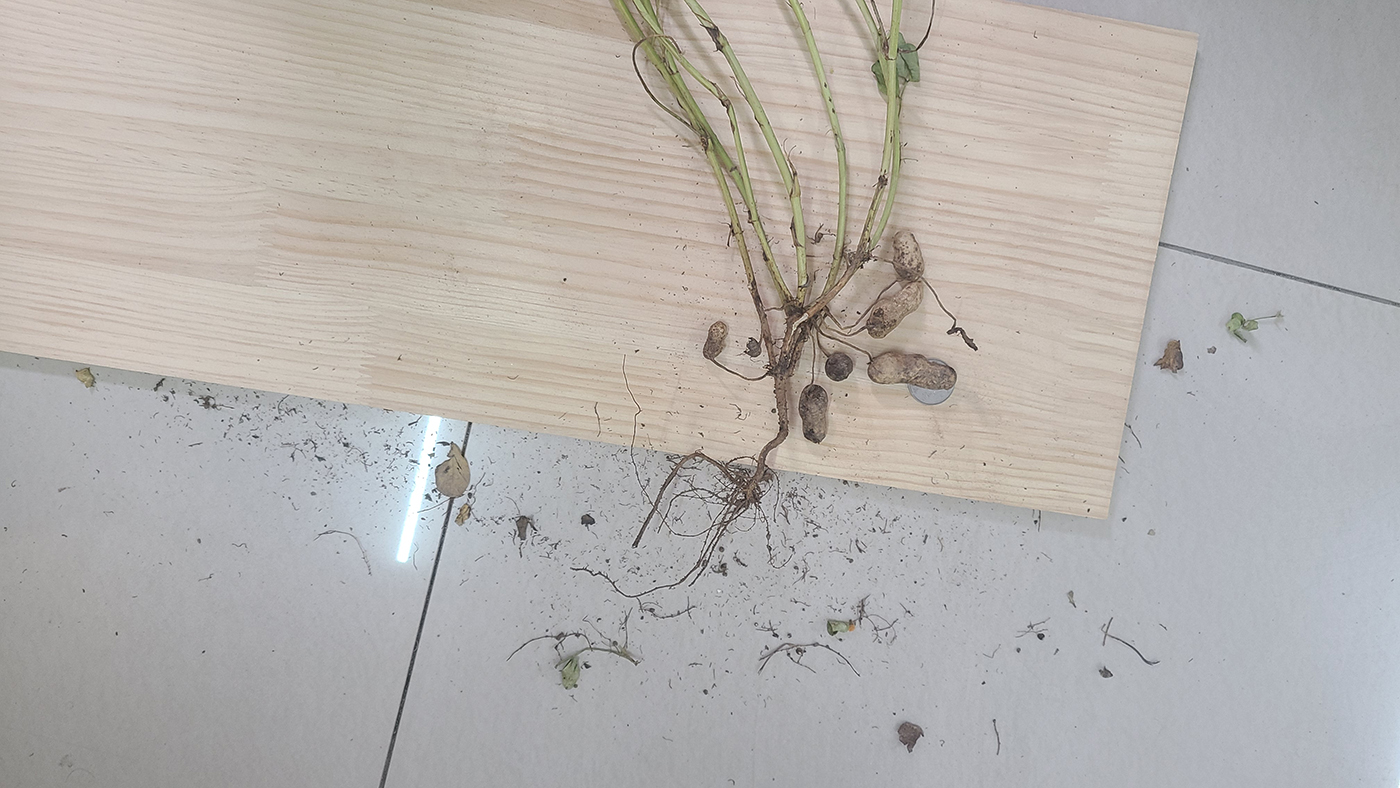h: (892, 230, 924, 281)
l: (867, 351, 957, 389), (867, 282, 923, 339), (797, 385, 829, 444), (703, 321, 729, 361), (825, 351, 854, 382), (956, 326, 979, 353), (746, 336, 761, 356)
